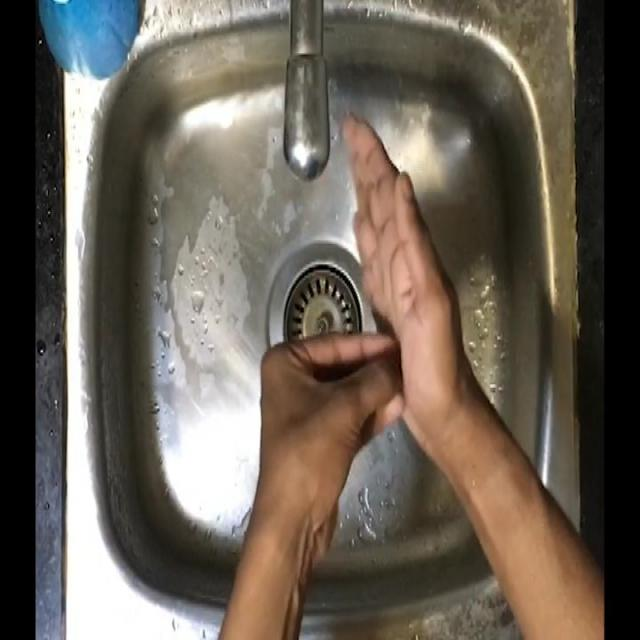step_6: (248, 101, 468, 496)
